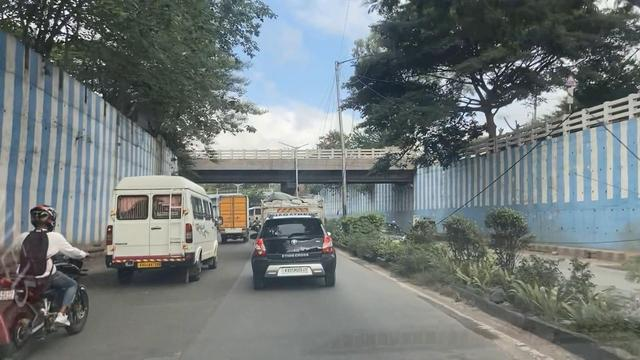HMV: (105, 171, 215, 287), (218, 196, 248, 241)
LMV: (0, 190, 88, 360), (252, 214, 336, 288)
